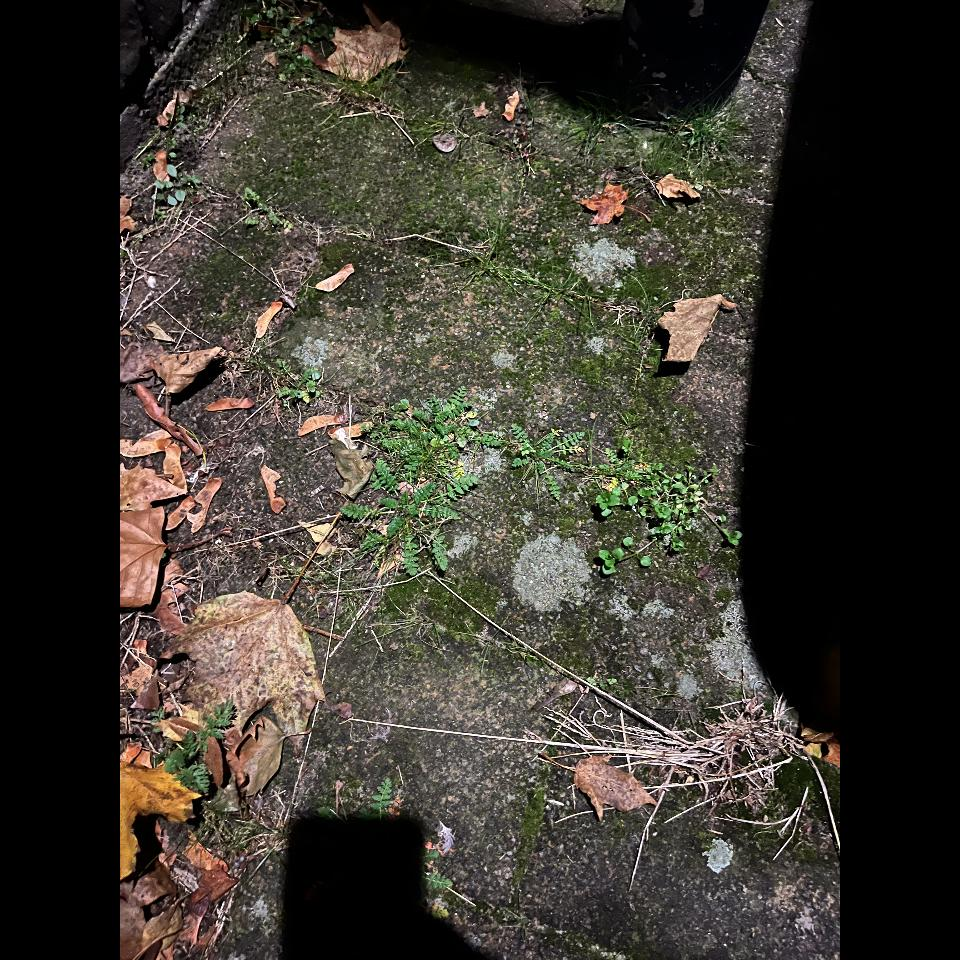weed: (350, 381, 736, 586)
